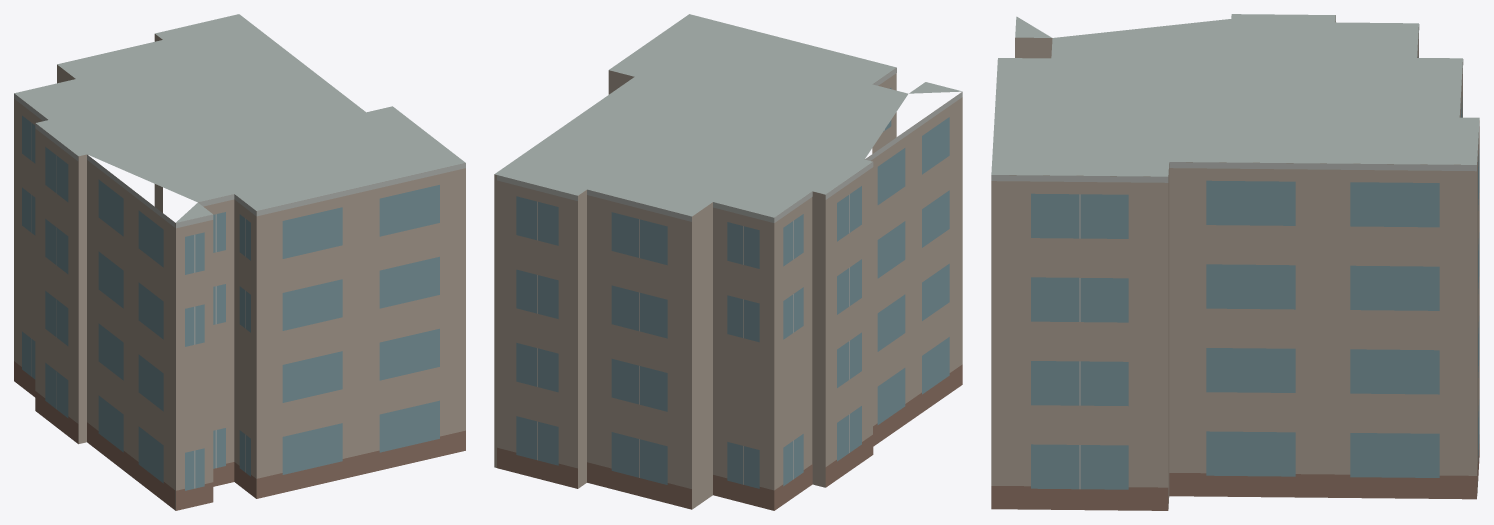
Rendered from survey-upis-32713118.glb.
3 renders of one model, left to right at view 1: azimuth 30°, elevation 25°; view 2: azimuth 150°, elevation 25°; view 3: azimuth 270°, elevation 25°, orthographic. The views are drawn at different scales.
Visible parts, largest first — view 1: survey-upis-32713118.tmp; view 2: survey-upis-32713118.tmp; view 3: survey-upis-32713118.tmp.
Boxes of the visible parts, x1=… form: survey-upis-32713118.tmp: x1=14, y1=14, x2=465, y2=510; survey-upis-32713118.tmp: x1=494, y1=14, x2=962, y2=510; survey-upis-32713118.tmp: x1=991, y1=14, x2=1479, y2=510.
Bounding box in the file's own units: 13.68 × 13.1 × 17.36.
